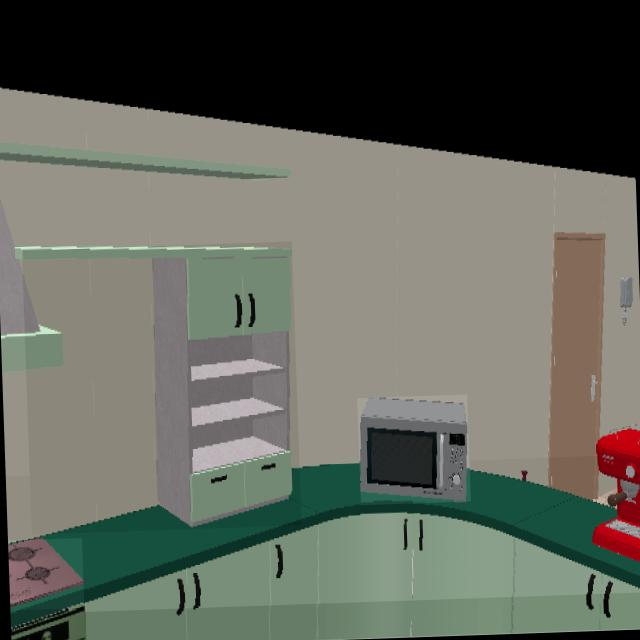cabinet: (22, 249, 292, 528), (78, 514, 640, 640)
countertop: (10, 464, 640, 614)
microwave: (358, 398, 469, 501)
oven: (11, 609, 86, 640)
stove: (8, 540, 83, 611)
